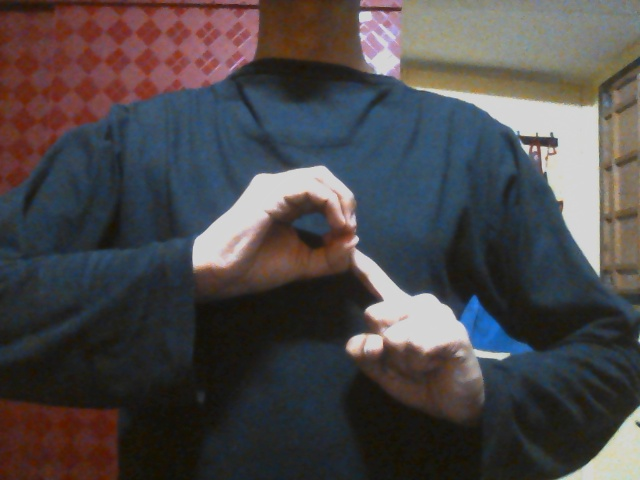Q: (201, 163, 473, 425)
